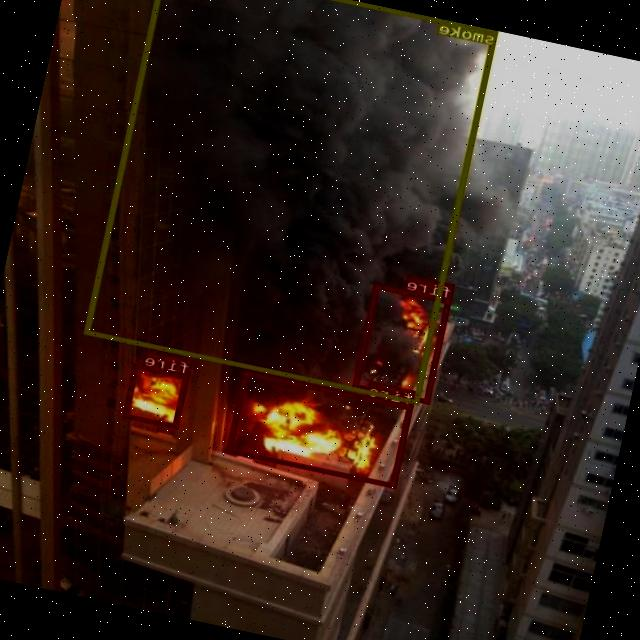fire: (228, 370, 414, 487), (353, 284, 452, 404), (124, 363, 190, 429)
smoke: (85, 0, 498, 404)
